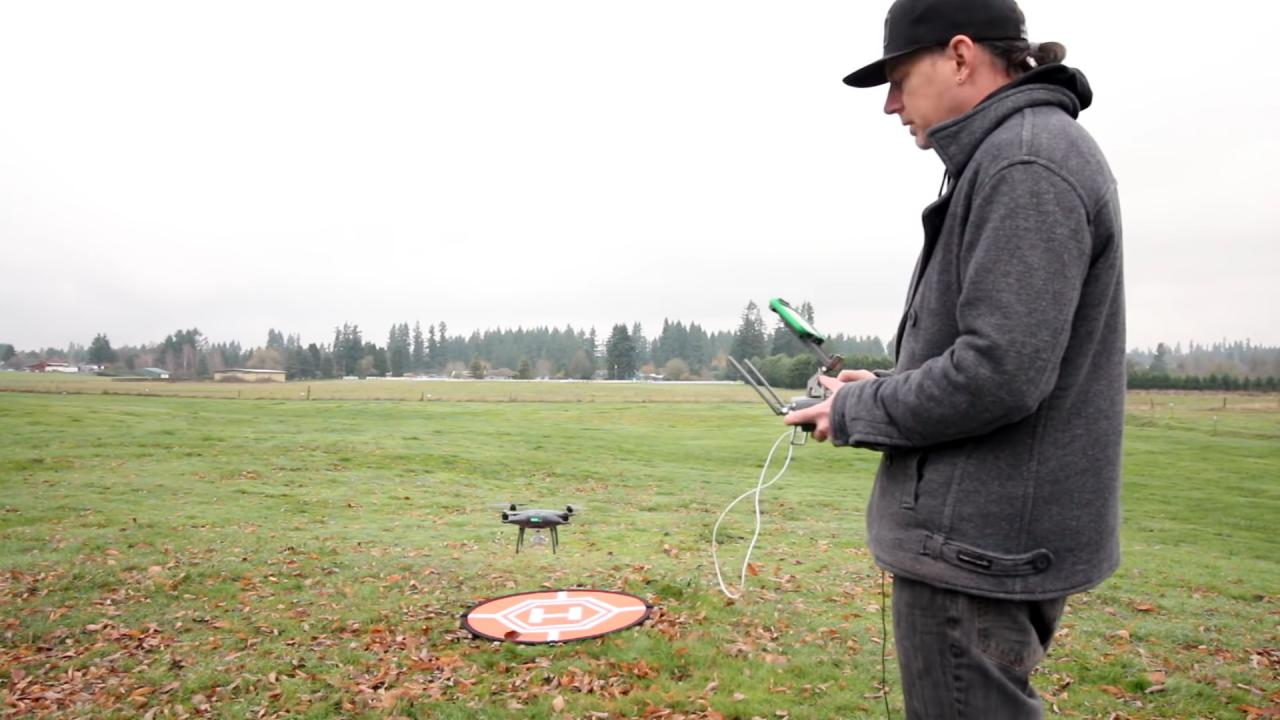Drone: (489, 495, 586, 562)
